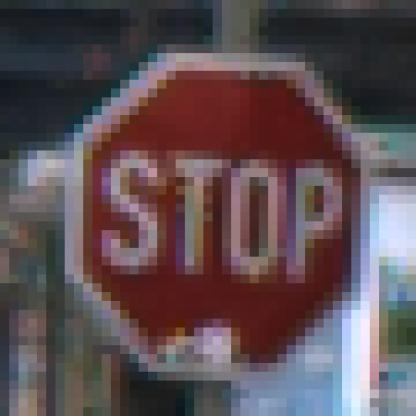stop: (71, 37, 369, 382)
